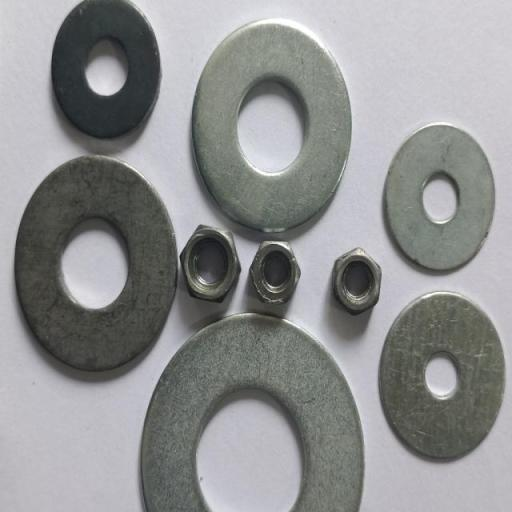Nut: (180, 225, 242, 304), (331, 248, 382, 317), (249, 240, 301, 307)
Washer: (140, 312, 364, 512), (13, 155, 178, 373), (190, 19, 353, 234), (378, 292, 506, 464), (383, 122, 496, 273), (50, 0, 162, 140)
